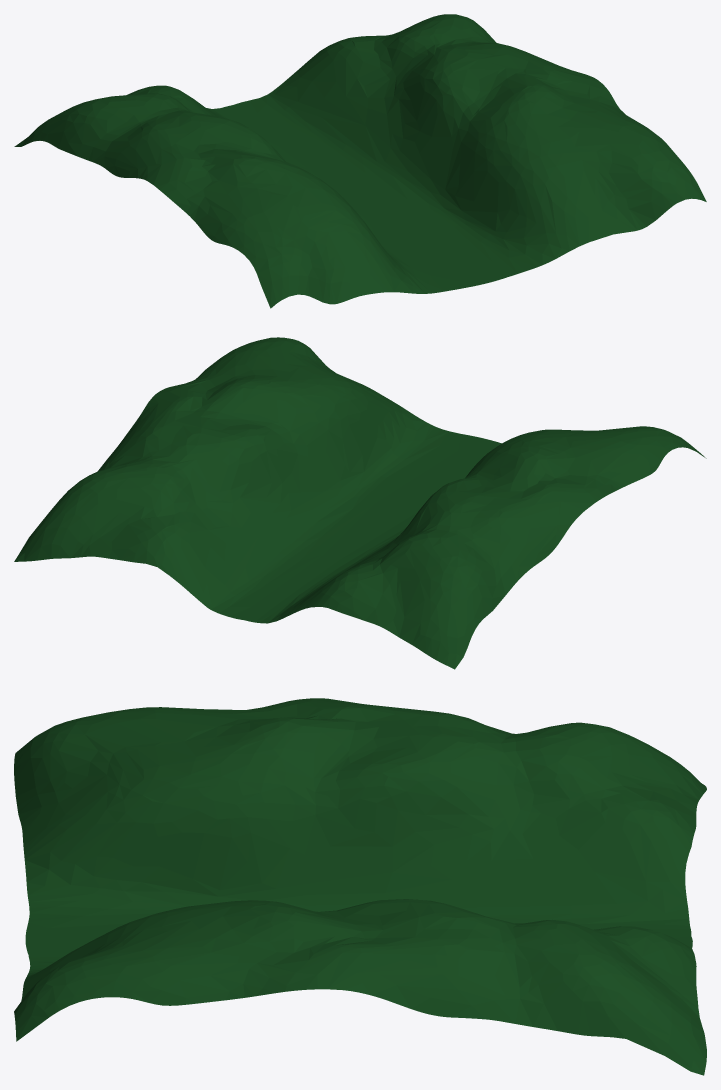
File: TrackExport.fbx
The picture shows the model from 3 angles, top to bottom: view 1: azimuth 30°, elevation 25°; view 2: azimuth 150°, elevation 25°; view 3: azimuth 270°, elevation 25°; orthographic projection. The views are drawn at different scales.
Parts seen in each view (by area): view 1: pPlane2; view 2: pPlane2; view 3: pPlane2.
Boxes of the visible parts, left/top/right/bottom form: pPlane2: left=14, top=14, right=706, bottom=308; pPlane2: left=14, top=337, right=706, bottom=669; pPlane2: left=14, top=698, right=706, bottom=1075.
Size of the model in its own units: 24.29 by 4.73 by 24.39.
